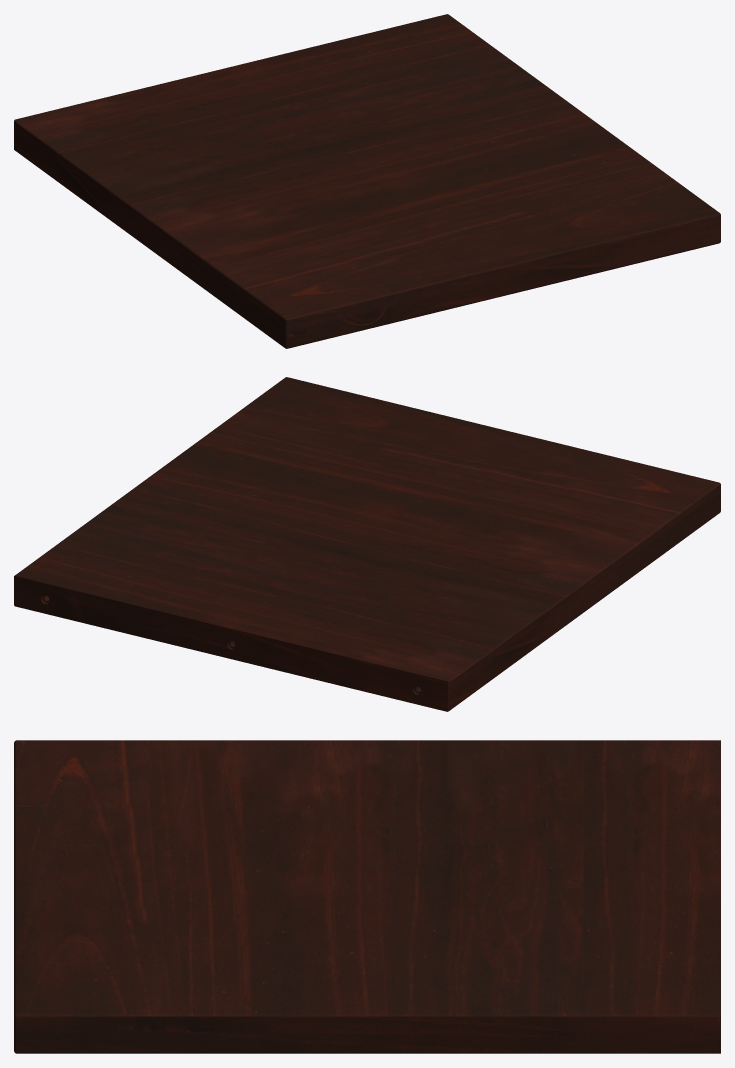
The model's file is example61.gltf.
3 renders of one model, top to bottom at view 1: azimuth 30°, elevation 25°; view 2: azimuth 150°, elevation 25°; view 3: azimuth 270°, elevation 25°, orthographic. The views are drawn at different scales.
Size of the model in its own units: 60 by 4 by 65.
Materials: 1 (1 with a texture image).
